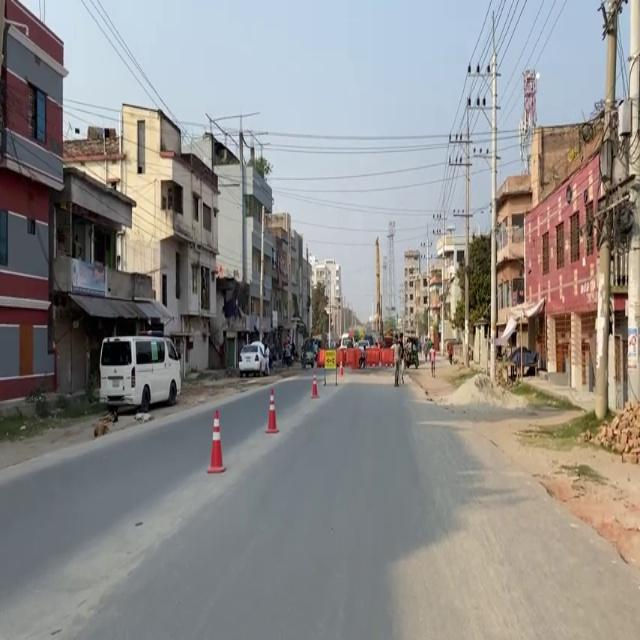Broken-road: (98, 333, 182, 414), (237, 340, 271, 377)
Construction-barrier: (479, 426, 631, 566), (517, 376, 587, 412), (405, 369, 429, 397)
Crosswalk: (92, 409, 118, 437)
Fallen-tree: (402, 342, 419, 369), (282, 347, 293, 367)
Light-pole: (592, 0, 623, 419)
Pothole: (404, 349, 639, 569)
